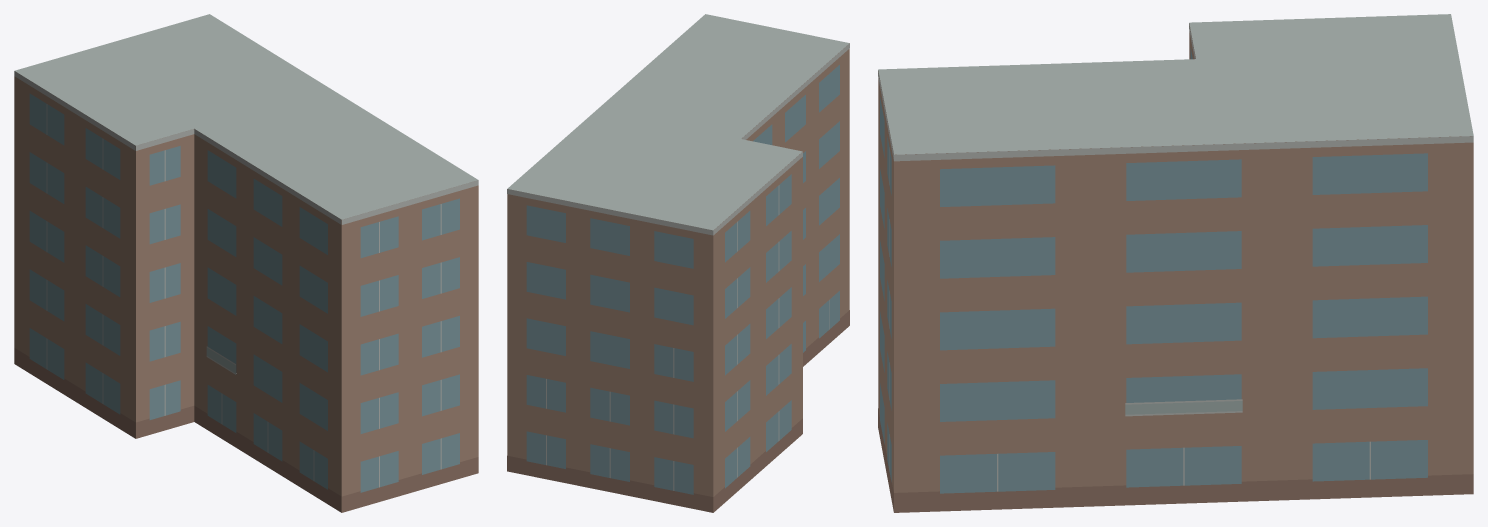
Rendered from survey-upis-32696710.glb.
3 renders of one model, left to right at view 1: azimuth 30°, elevation 25°; view 2: azimuth 150°, elevation 25°; view 3: azimuth 270°, elevation 25°, orthographic. The views are drawn at different scales.
Visible parts, largest first — view 1: survey-upis-32696710.tmp; view 2: survey-upis-32696710.tmp; view 3: survey-upis-32696710.tmp.
Part boxes in pixels (<box>): survey-upis-32696710.tmp: <box>14,14,478,512</box>; survey-upis-32696710.tmp: <box>507,14,849,512</box>; survey-upis-32696710.tmp: <box>878,14,1473,512</box>.
Bounding box in the file's own units: 11.27 × 13.35 × 20.14.
